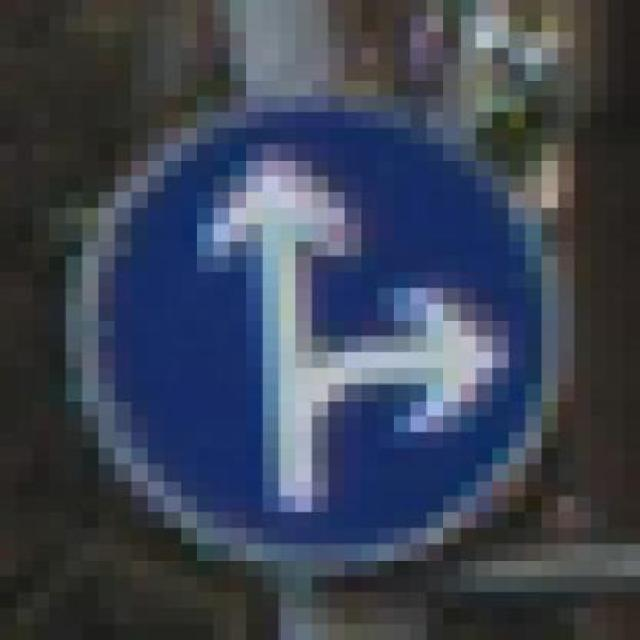Go Straight or Turn Right: (66, 79, 574, 576)
